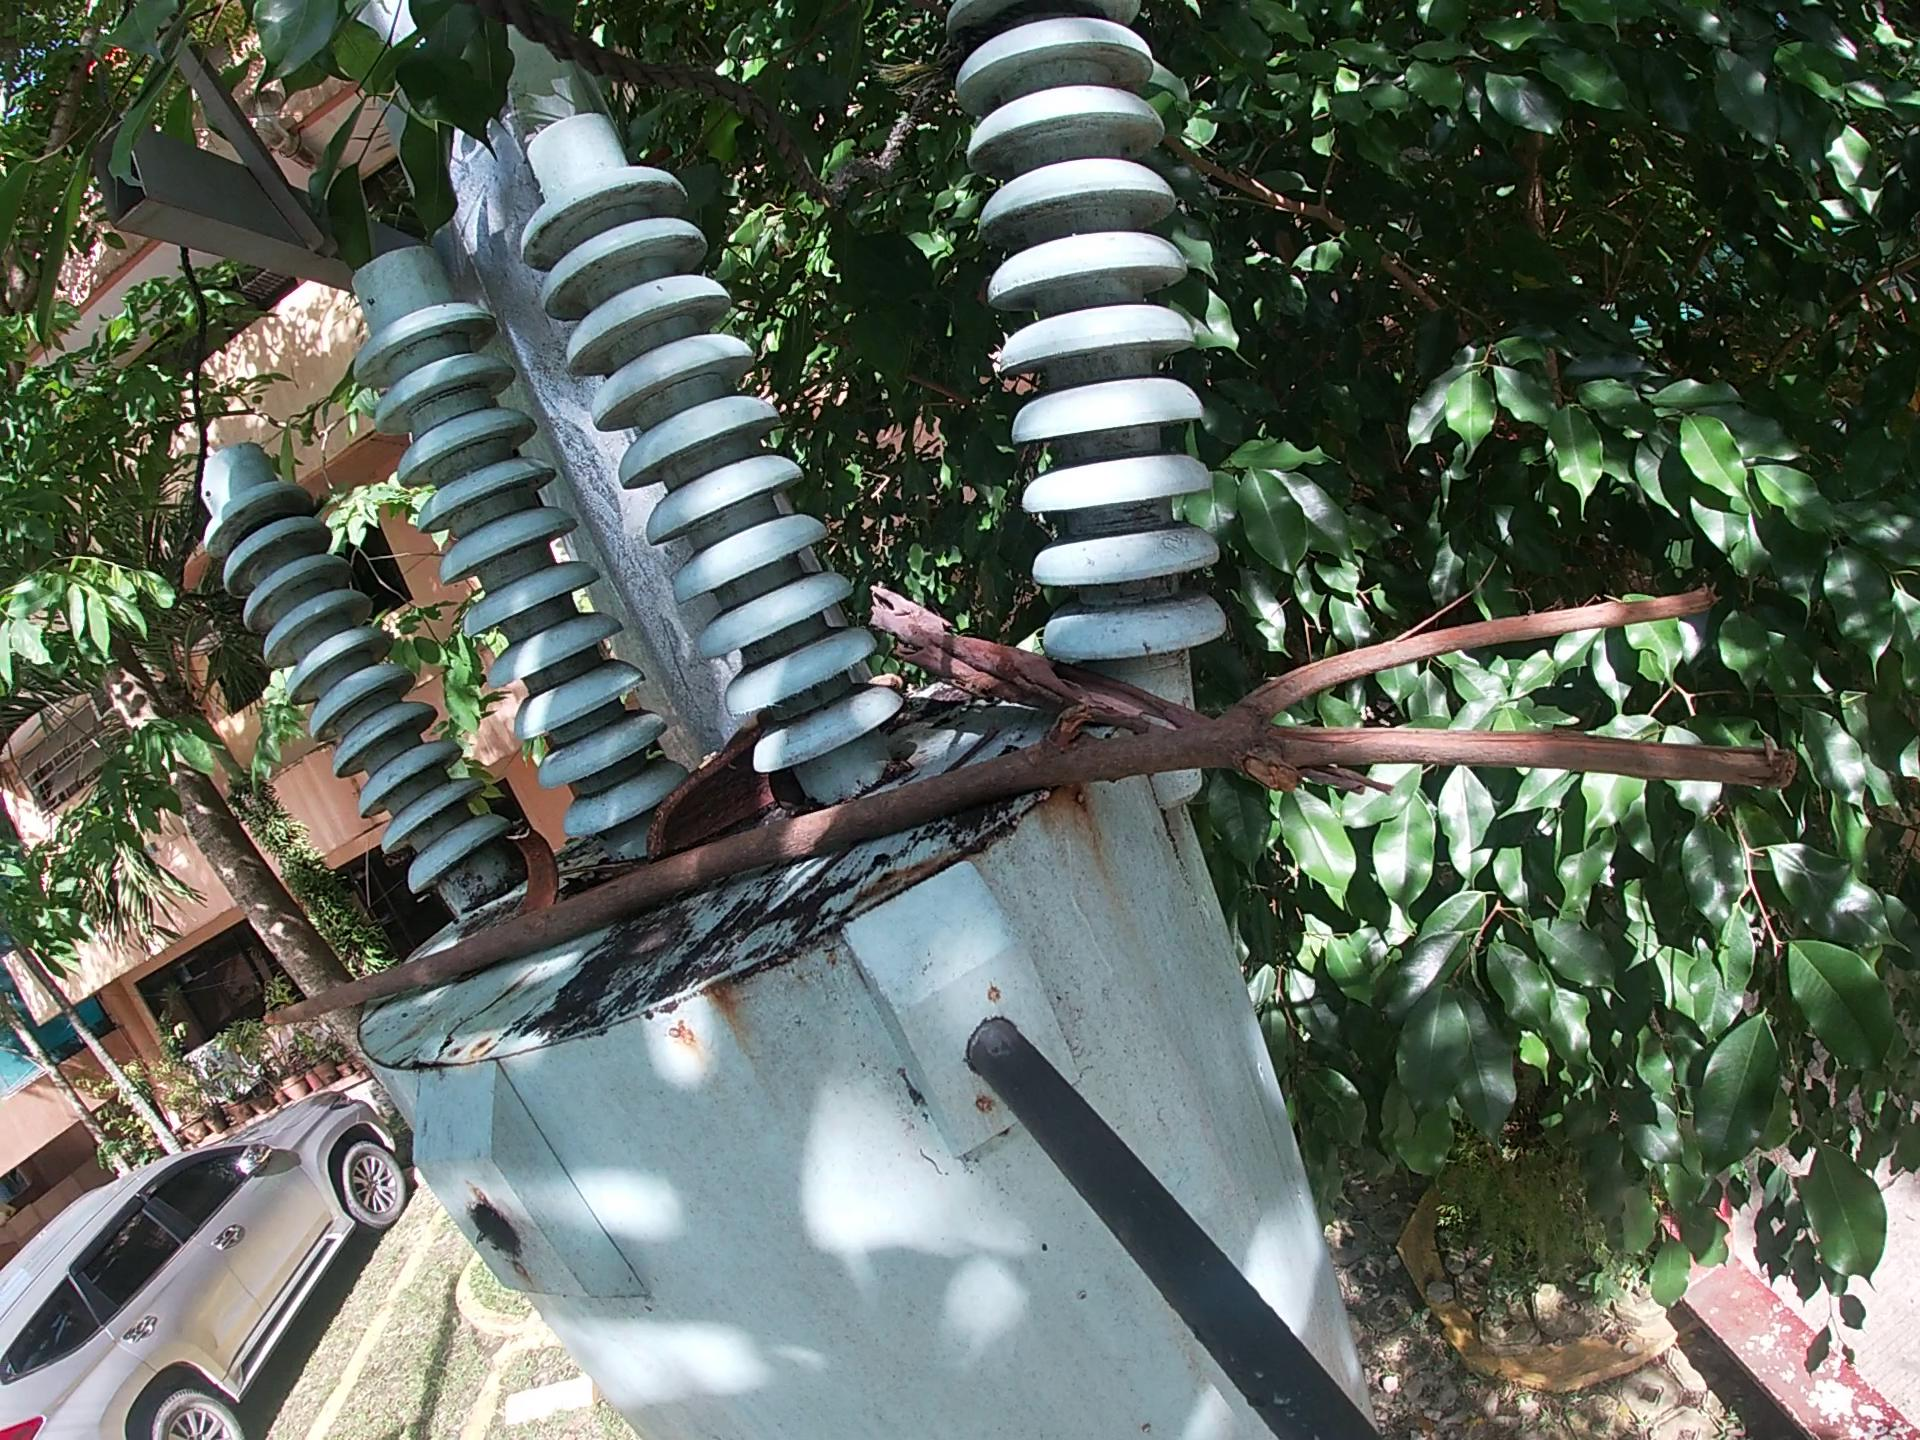mahogany fruit: (643, 715, 782, 865), (502, 821, 565, 924)
tree branch: (251, 573, 1810, 1050), (862, 576, 1400, 805)
